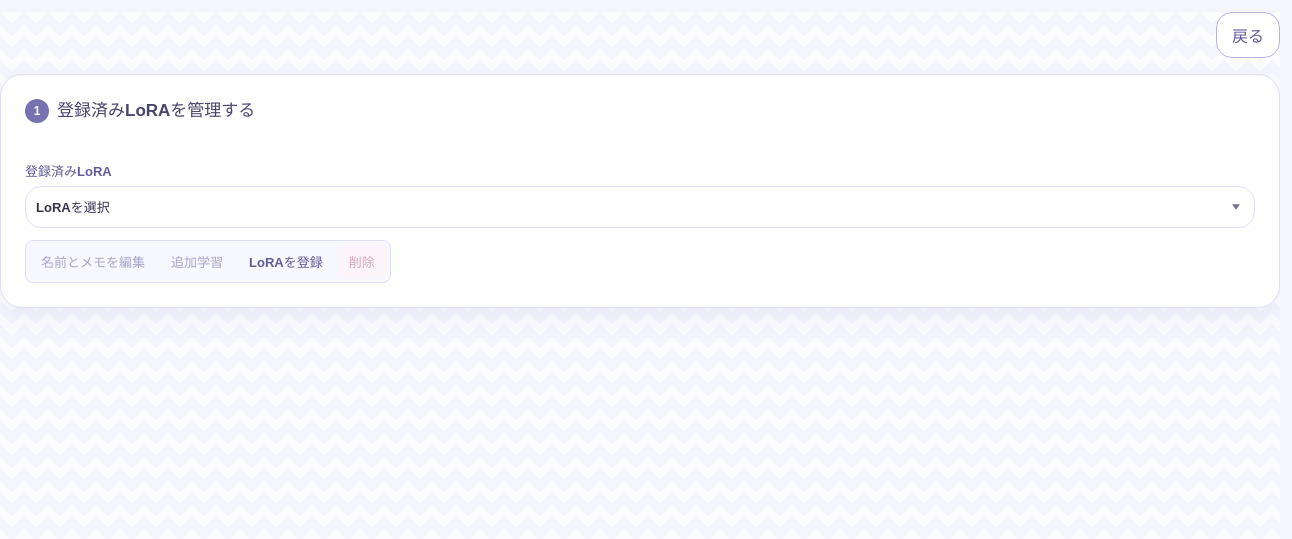
cancels when selection changes to
Select "穏やかな声" in the dropdown labelled "登録済みLoRA": [640, 207] box [25, 186, 1255, 228]
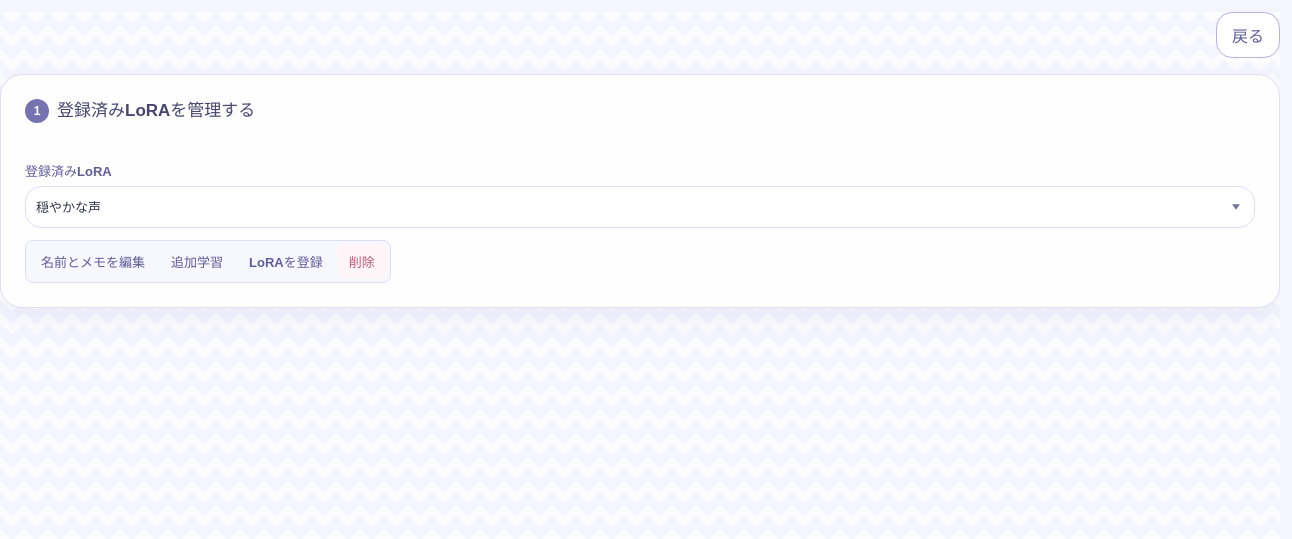
Click the button "削除": [362, 262] box [337, 244, 387, 279]
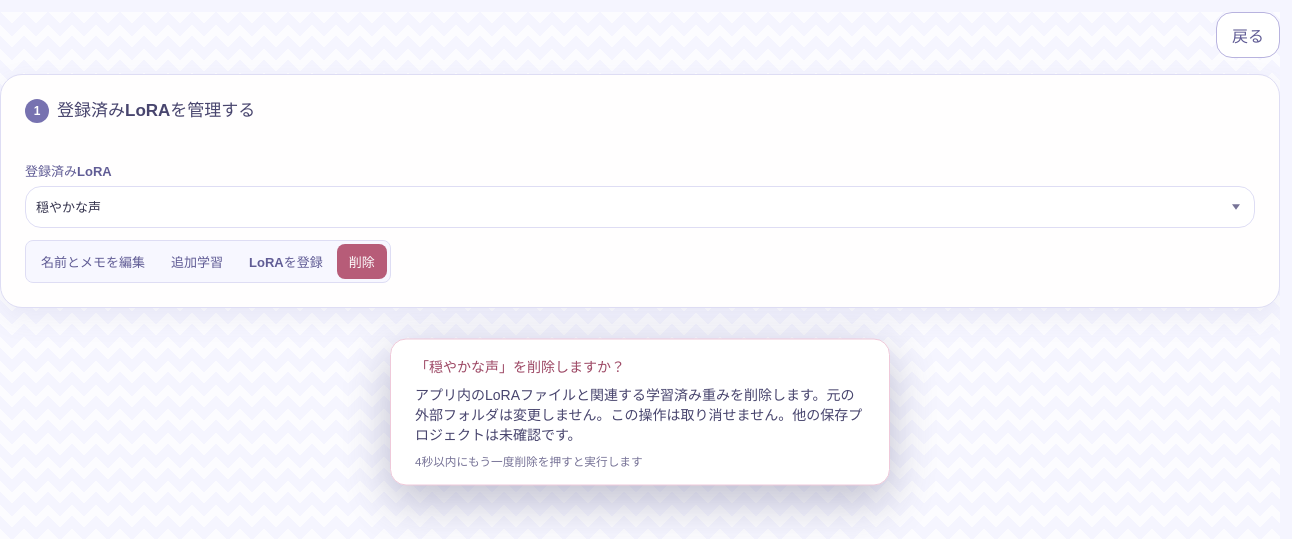
Select "LoRAを選択" in the dropdown labelled "登録済みLoRA": [640, 207] box [25, 186, 1255, 228]
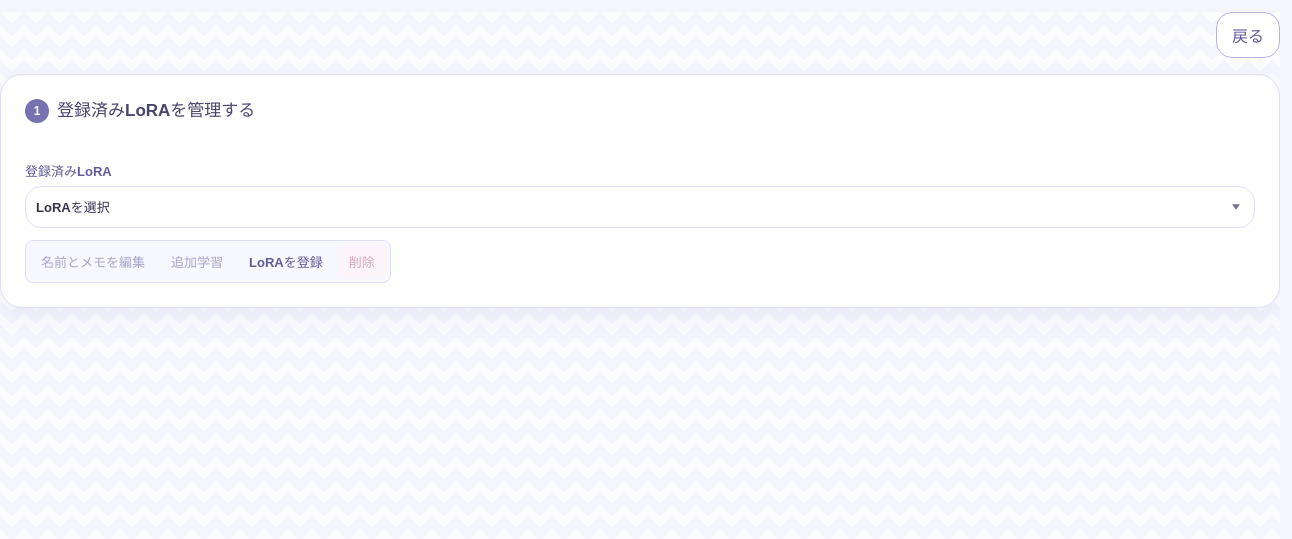
Now the message is gone
